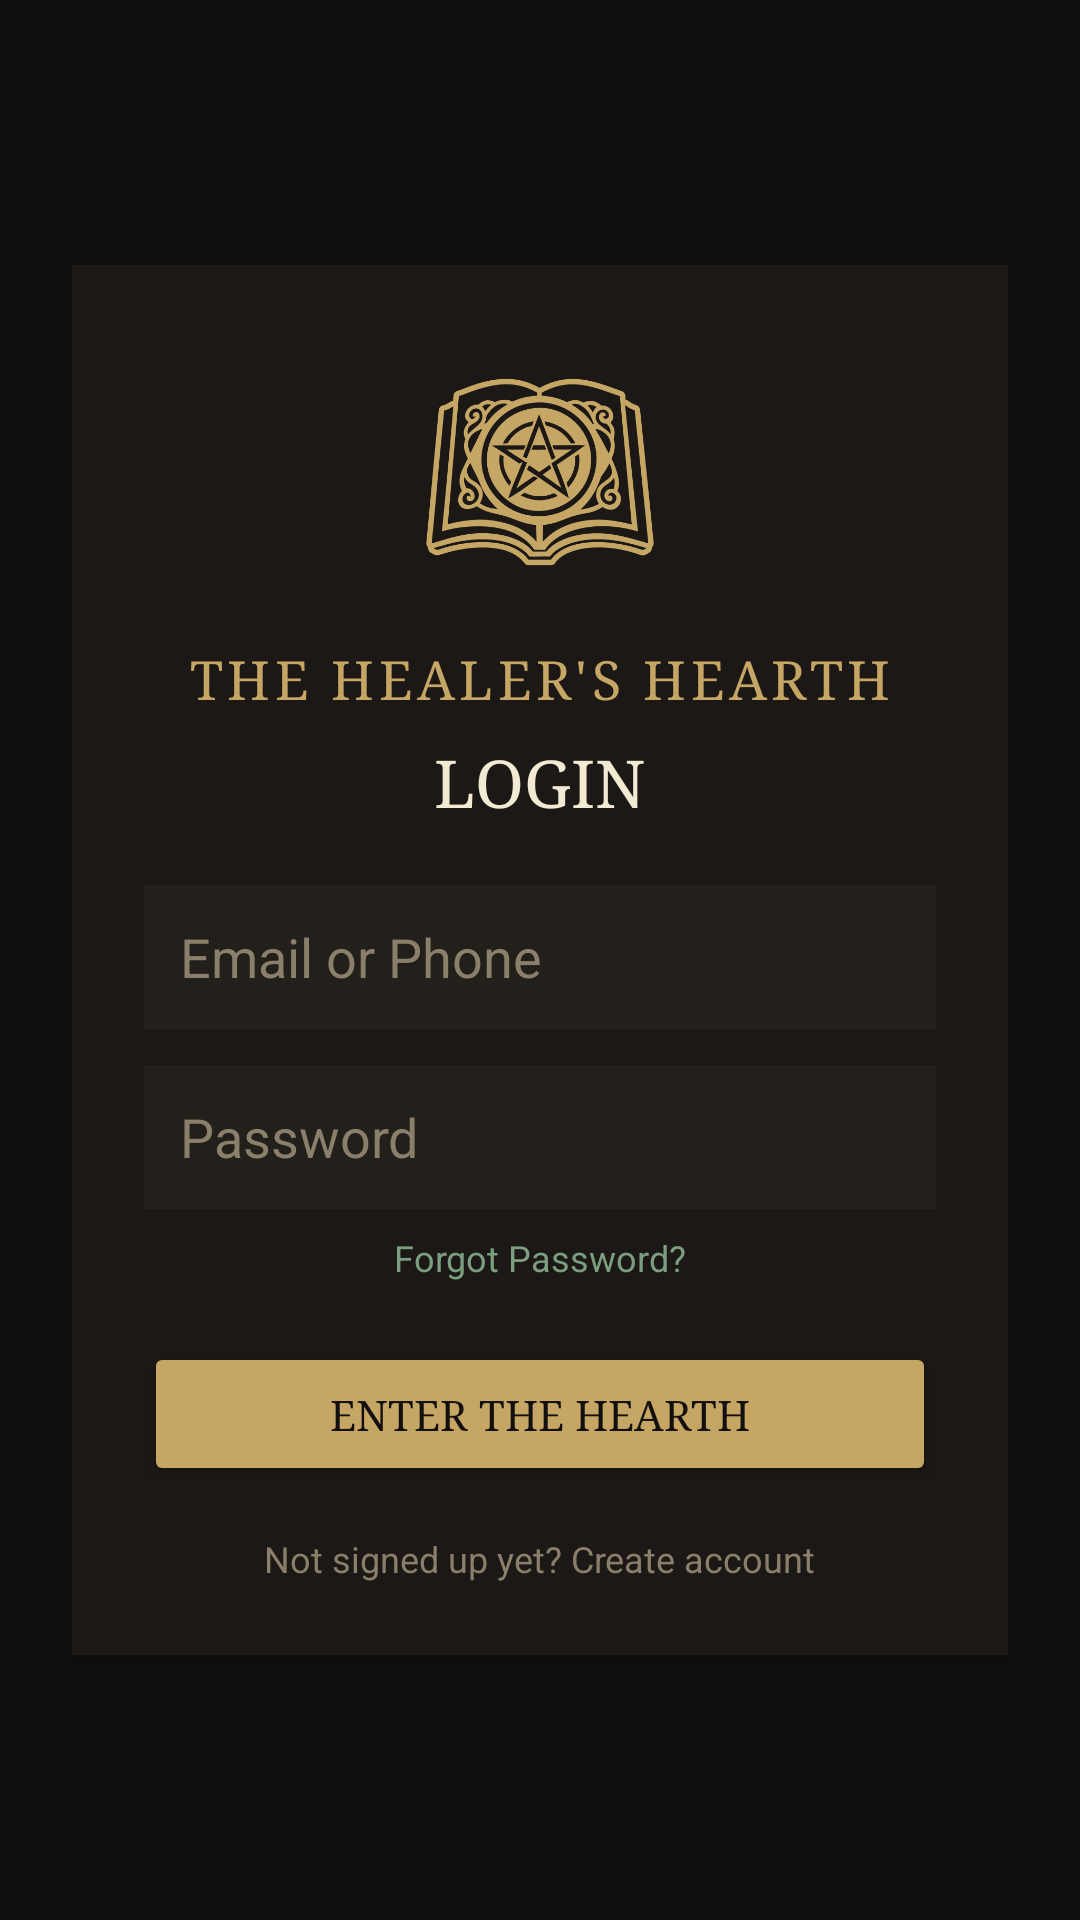

Icons on this 1080w x 1920h Android screen, each with the point to tap as point (x, y):
grimoire: point (540, 472)
